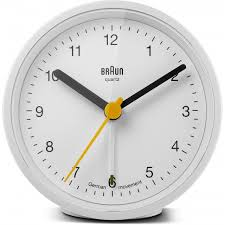alarm_clock: (0, 3, 222, 217), (6, 3, 222, 217)
